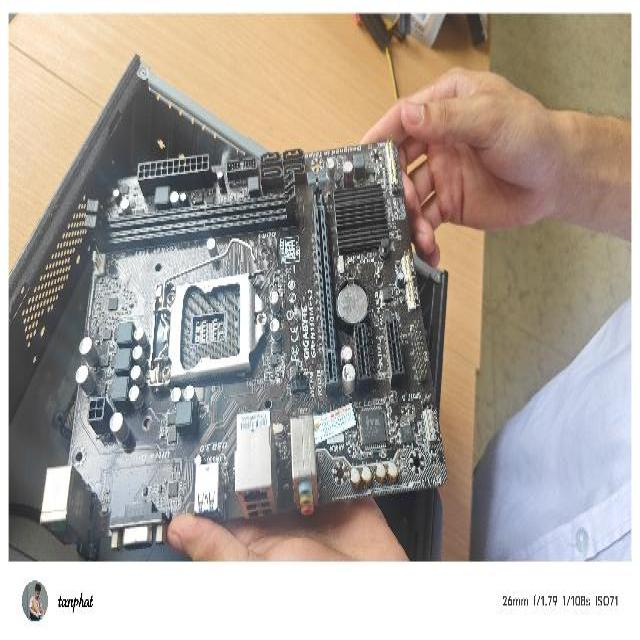Mainboard: (39, 132, 447, 552)
